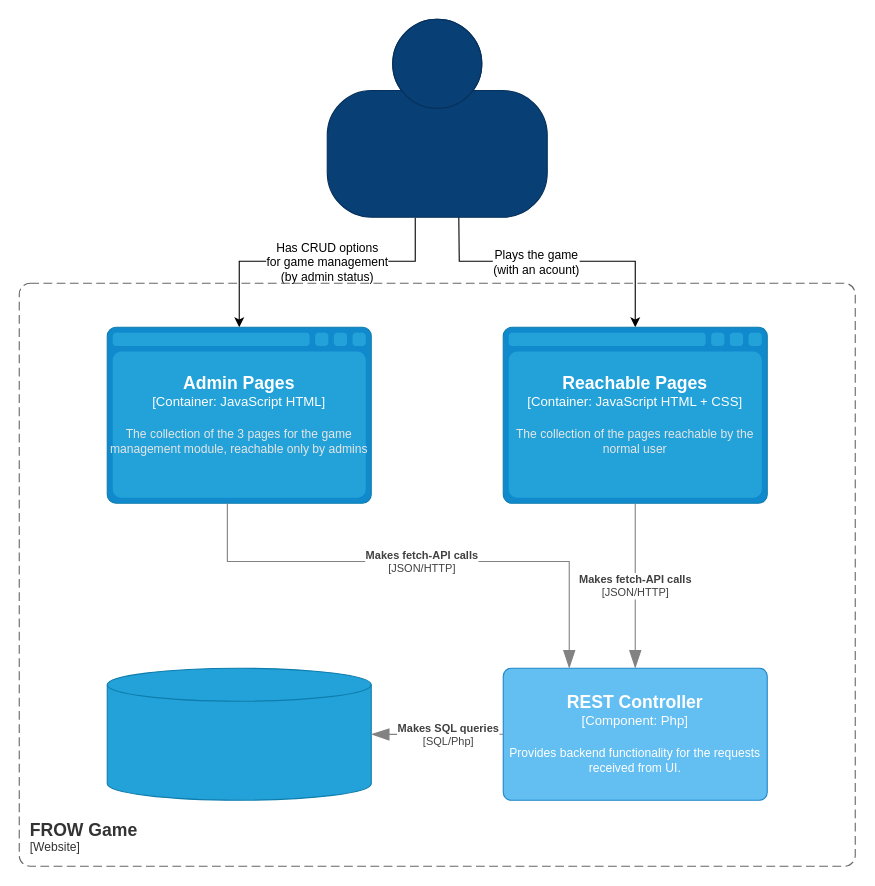
This 875x886 diagram has some shape labels left out. Here are the shapes that lost their labels. From the top down, the centre of each, then its label:
At point (436, 117): "User [Human]".
At point (238, 733): "Database [Container: MySql] Stores the necessary informations for the game".
